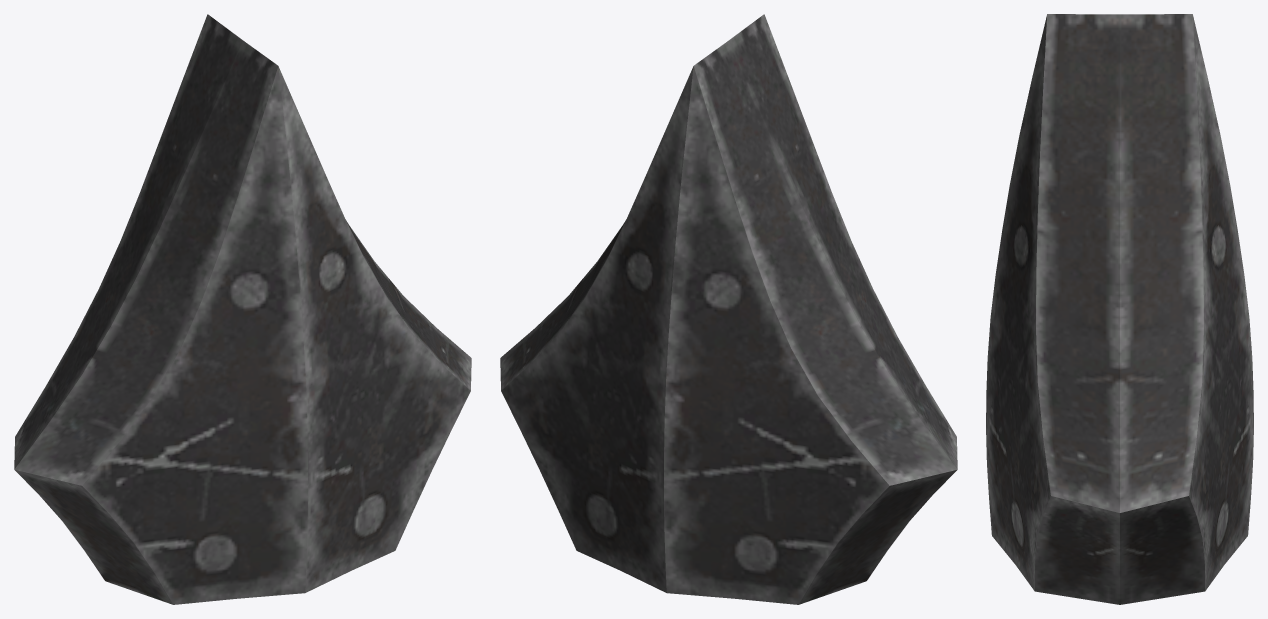
File: sm_uruk_sword_guard_a1.fbx
3 renders of one model, left to right at view 1: azimuth 30°, elevation 25°; view 2: azimuth 150°, elevation 25°; view 3: azimuth 270°, elevation 25°, orthographic. The views are drawn at different scales.
Visible parts, largest first — view 1: sm_uruk_sword_guard_a1; view 2: sm_uruk_sword_guard_a1; view 3: sm_uruk_sword_guard_a1.
Boxes of the visible parts, <box> form: sm_uruk_sword_guard_a1: <box>14,14,471,604</box>; sm_uruk_sword_guard_a1: <box>500,14,957,604</box>; sm_uruk_sword_guard_a1: <box>986,14,1253,604</box>.
Size of the model in its own units: 0.104 by 0.0513 by 0.1103.
Materials: 1 (1 with a texture image).
